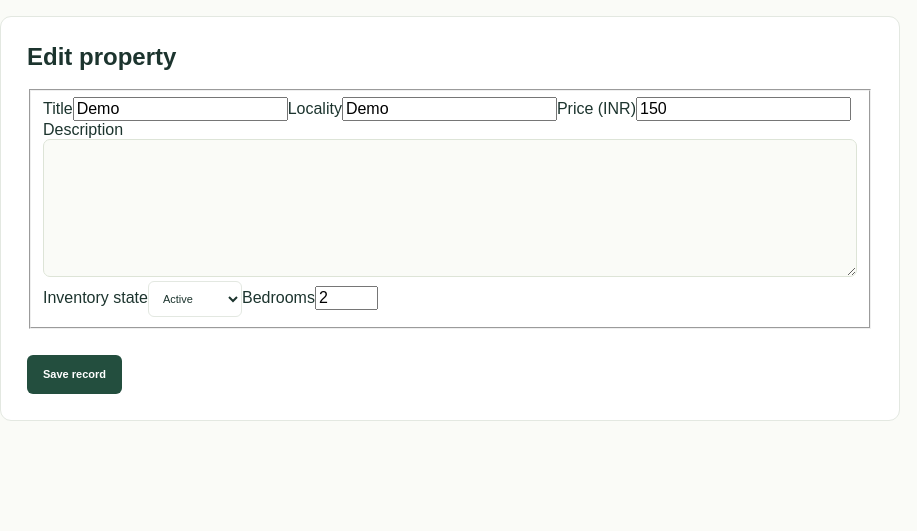
Test: keeps stale edits visible instead of claiming a save
Click the button "Save record": (74, 374) top-left (27, 355), bottom-right (122, 394)
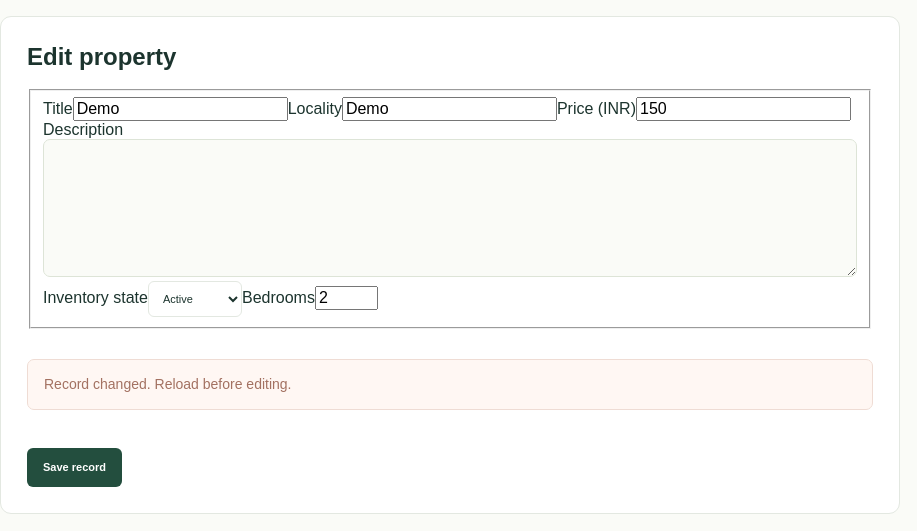
Now the text "Record changed. Reload before editing." is shown, box top-left (27, 359), bottom-right (873, 410)
